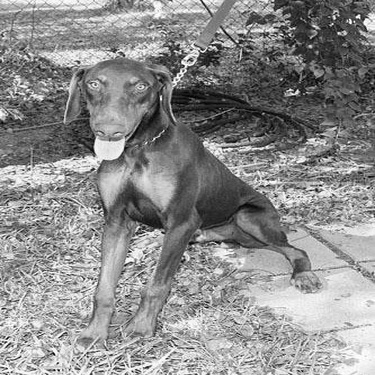dog: (53, 49, 332, 354)
